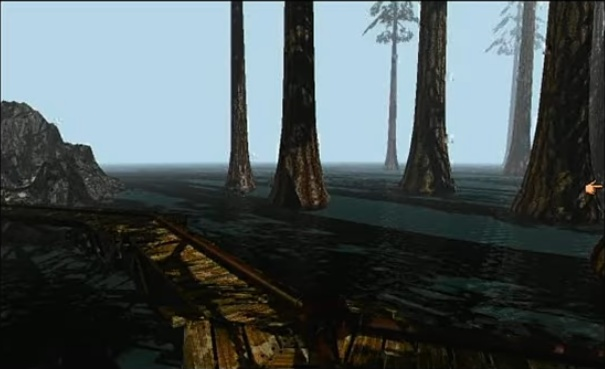Pointer: (582, 176, 605, 197)
